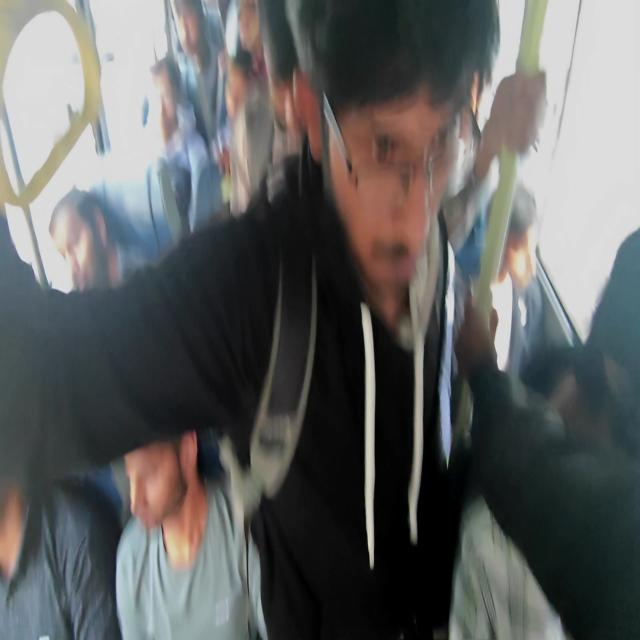person: (337, 0, 435, 282), (574, 263, 640, 525), (38, 194, 136, 321), (116, 398, 185, 547), (0, 414, 42, 640), (498, 180, 540, 316), (140, 68, 185, 158), (268, 40, 304, 134), (230, 12, 271, 64), (177, 0, 214, 55), (225, 62, 259, 117)
